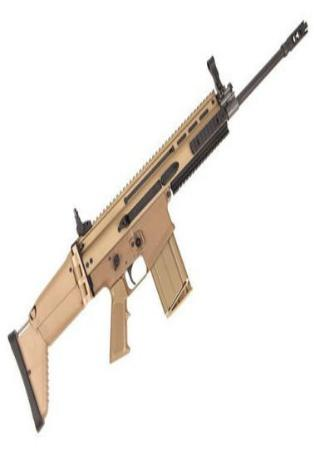weapon: (8, 20, 307, 433)
